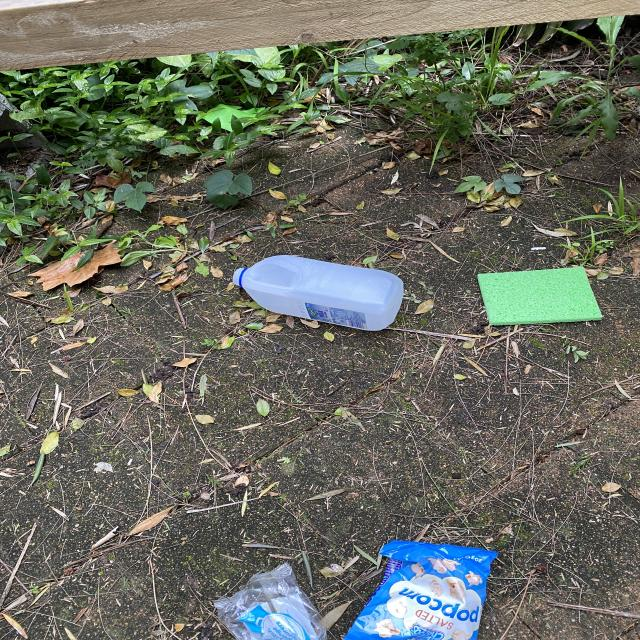bag: (342, 540, 498, 640)
bottle: (232, 254, 404, 331)
sponge: (478, 267, 602, 327)
wrappers: (212, 562, 328, 640)
